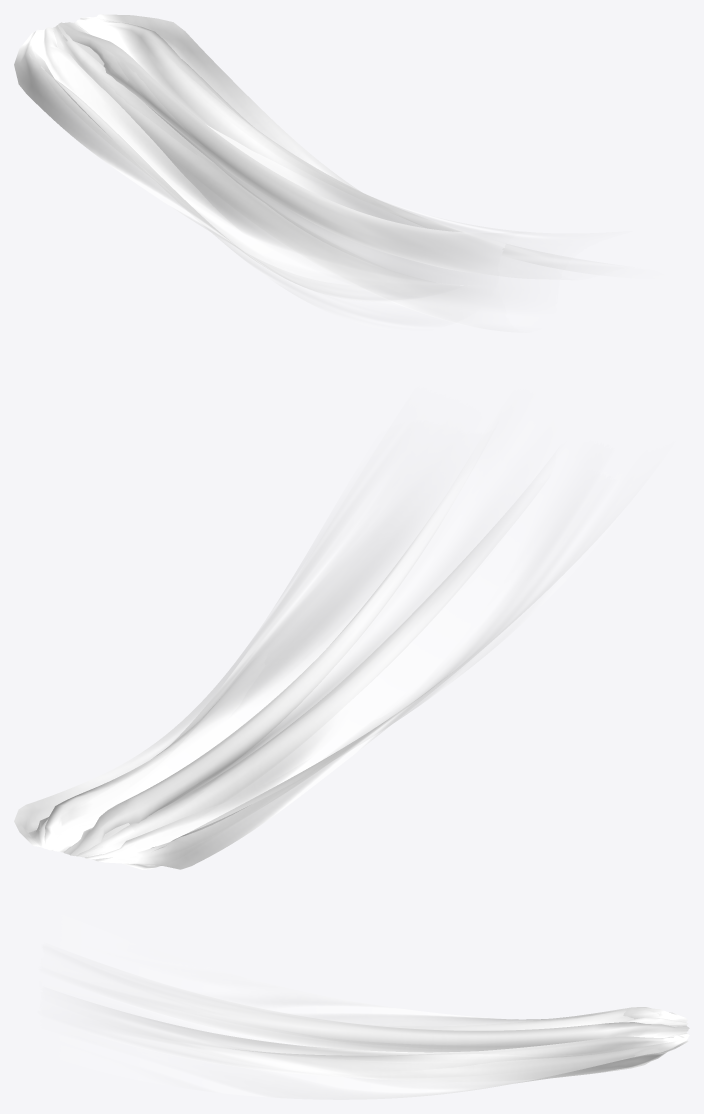
File: wind_single.glb
3 renders of one model, top to bottom at view 1: azimuth 30°, elevation 25°; view 2: azimuth 150°, elevation 25°; view 3: azimuth 270°, elevation 25°, orthographic. The views are drawn at different scales.
Parts seen in each view (by area): view 1: Wind_Center_R; view 2: Wind_Center_R; view 3: Wind_Center_R.
Part boxes in pixels (<box>): Wind_Center_R: <box>14,14,606,329</box>; Wind_Center_R: <box>14,430,622,869</box>; Wind_Center_R: <box>51,944,689,1099</box>.
Size of the model in its own units: 0.1636 by 0.1071 by 0.4616.
Materials: 1 (1 with a texture image).
